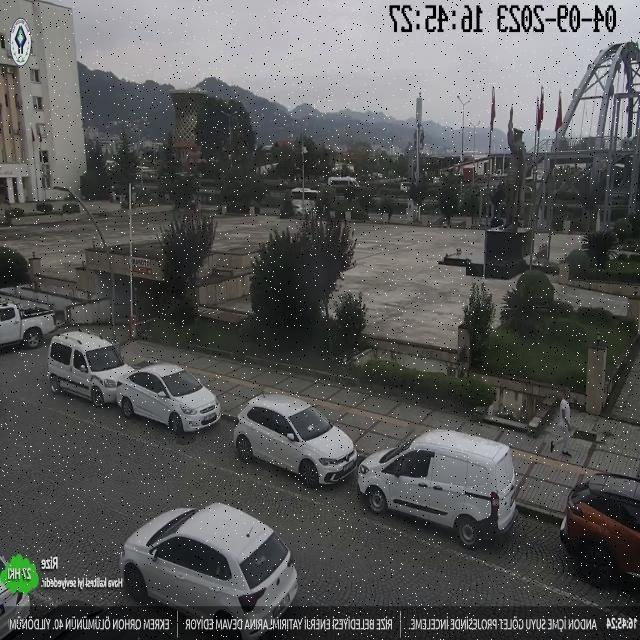Car: (113, 474, 292, 616), (233, 378, 348, 494), (552, 450, 640, 588), (41, 335, 132, 413), (126, 364, 220, 431), (0, 294, 52, 349)
Van: (341, 431, 531, 541)
